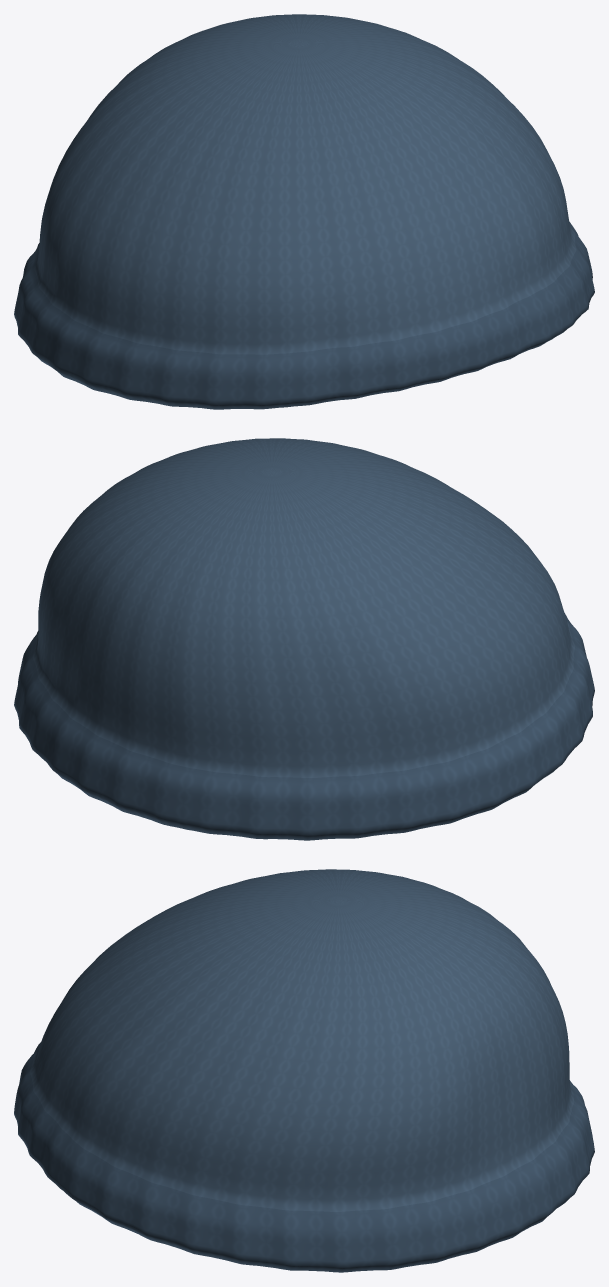
The model's file is beanie-feminine-box-braids.glb.
3 renders of one model, top to bottom at view 1: azimuth 30°, elevation 25°; view 2: azimuth 150°, elevation 25°; view 3: azimuth 270°, elevation 25°, orthographic. The views are drawn at different scales.
Parts seen in each view (by area): view 1: Beanie / fitted knit; view 2: Beanie / fitted knit; view 3: Beanie / fitted knit.
Part boxes in pixels (x1,y1,x2,y2): Beanie / fitted knit: (14, 14, 594, 409); Beanie / fitted knit: (14, 438, 594, 840); Beanie / fitted knit: (14, 869, 594, 1272).
Bounding box in the file's own units: 0.8214 × 0.4059 × 0.7979.
Materials: 2 (2 with a texture image).
